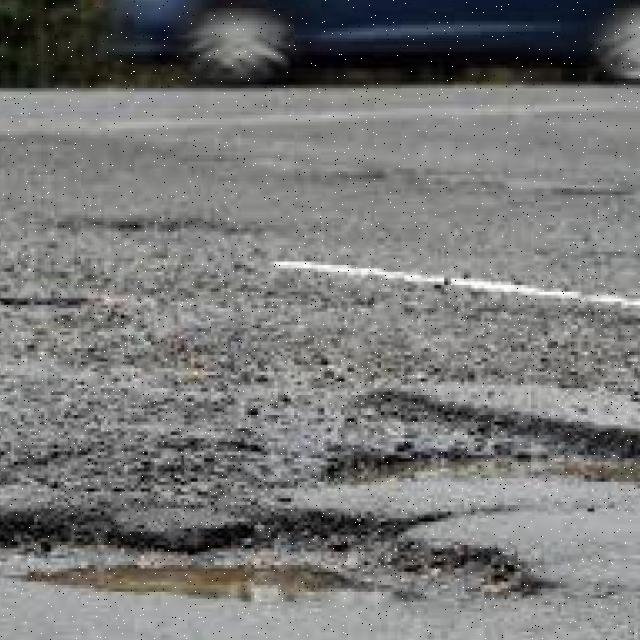pothole: (0, 468, 640, 640)
